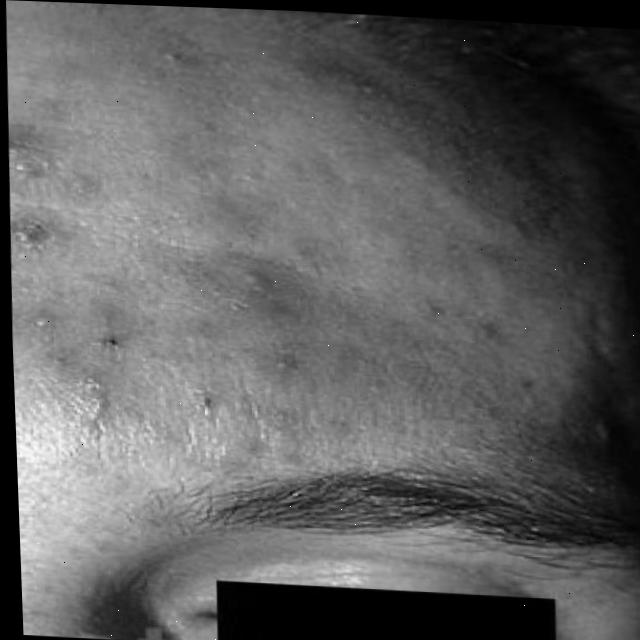Rosacea: (3, 90, 328, 451)
